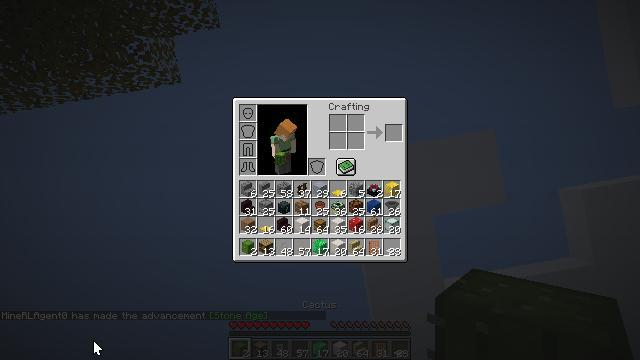cursor: (93, 340, 103, 356)
